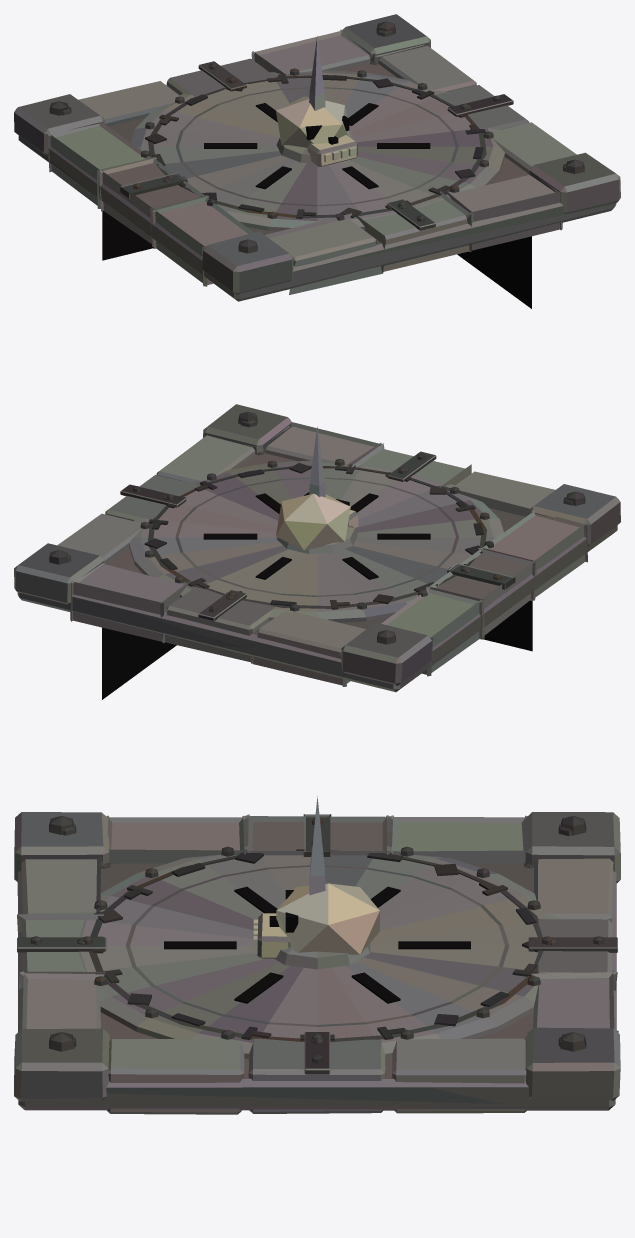
File: traps_lowpoly.glb
3 views of the same model, one above another, from view 1: azimuth 30°, elevation 25°; view 2: azimuth 150°, elevation 25°; view 3: azimuth 270°, elevation 25° (orthographic). The views are drawn at different scales.
Parts seen in each view (by area): view 1: TrSpikeFrame, TrRune, TrSkull, TrSpike; view 2: TrSpikeFrame, TrRune, TrSkull, TrSpike; view 3: TrSpikeFrame, TrRune, TrSkull, TrSpike.
Boxes of the visible parts, x1=… form: TrSpikeFrame: x1=14, y1=14, x2=620, y2=308; TrRune: x1=38, y1=30, x2=613, y2=301; TrSkull: x1=18, y1=54, x2=616, y2=271; TrSpike: x1=309, y1=36, x2=325, y2=110; TrSpikeFrame: x1=14, y1=404, x2=620, y2=699; TrRune: x1=18, y1=420, x2=617, y2=688; TrSkull: x1=17, y1=427, x2=525, y2=692; TrSpike: x1=309, y1=427, x2=325, y2=496; TrSpikeFrame: x1=14, y1=812, x2=620, y2=1114; TrRune: x1=17, y1=824, x2=616, y2=1110; TrSkull: x1=18, y1=832, x2=616, y2=1110; TrSpike: x1=309, y1=796, x2=325, y2=895.
Size of the model in its own units: 2.85 by 1.75 by 2.85.
